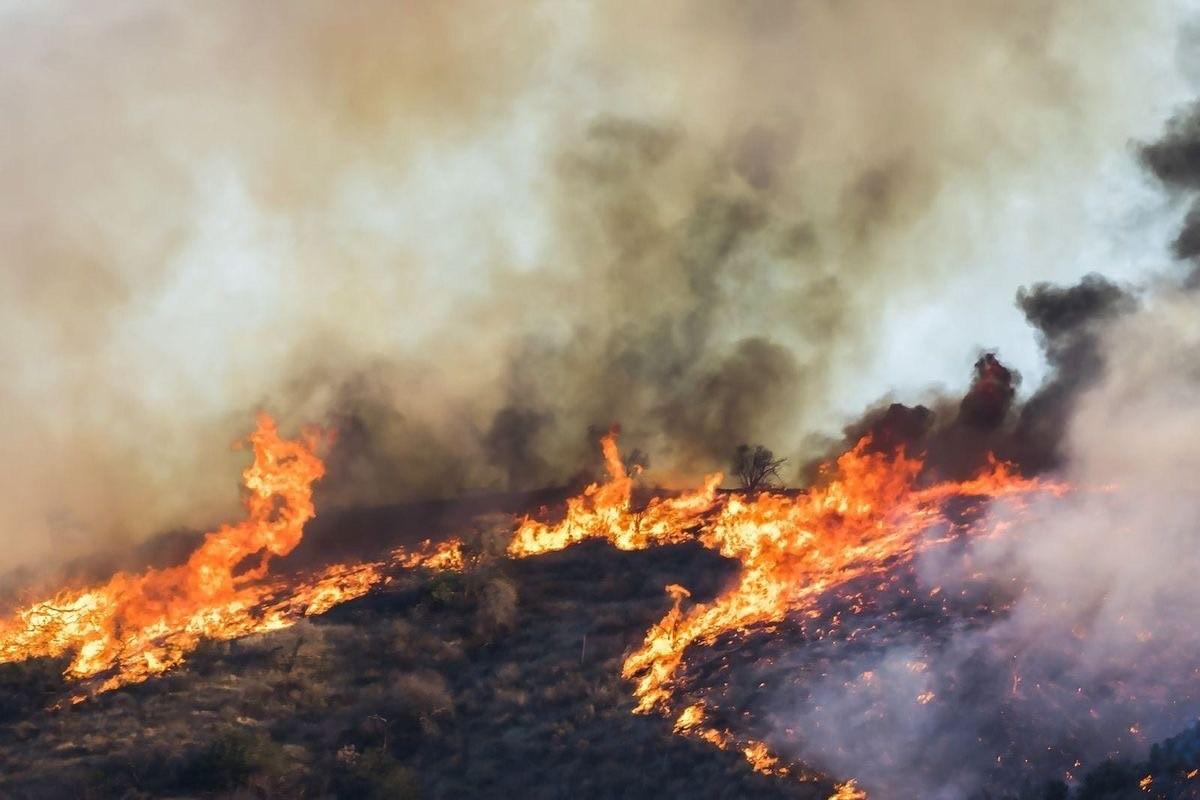fire: (16, 431, 385, 705), (666, 468, 1025, 590), (484, 466, 761, 562), (707, 704, 863, 800), (619, 601, 740, 724), (931, 423, 1094, 514)
smoke: (332, 97, 777, 474), (947, 250, 1200, 457)
